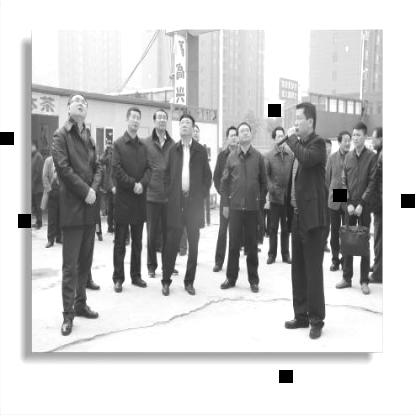head: (292, 97, 320, 137), (66, 90, 88, 126), (176, 111, 196, 145), (124, 104, 144, 136), (152, 104, 170, 137), (353, 118, 369, 154), (236, 119, 252, 150), (369, 124, 384, 154), (224, 124, 239, 154), (336, 130, 351, 158), (272, 123, 286, 151), (322, 137, 334, 159)
